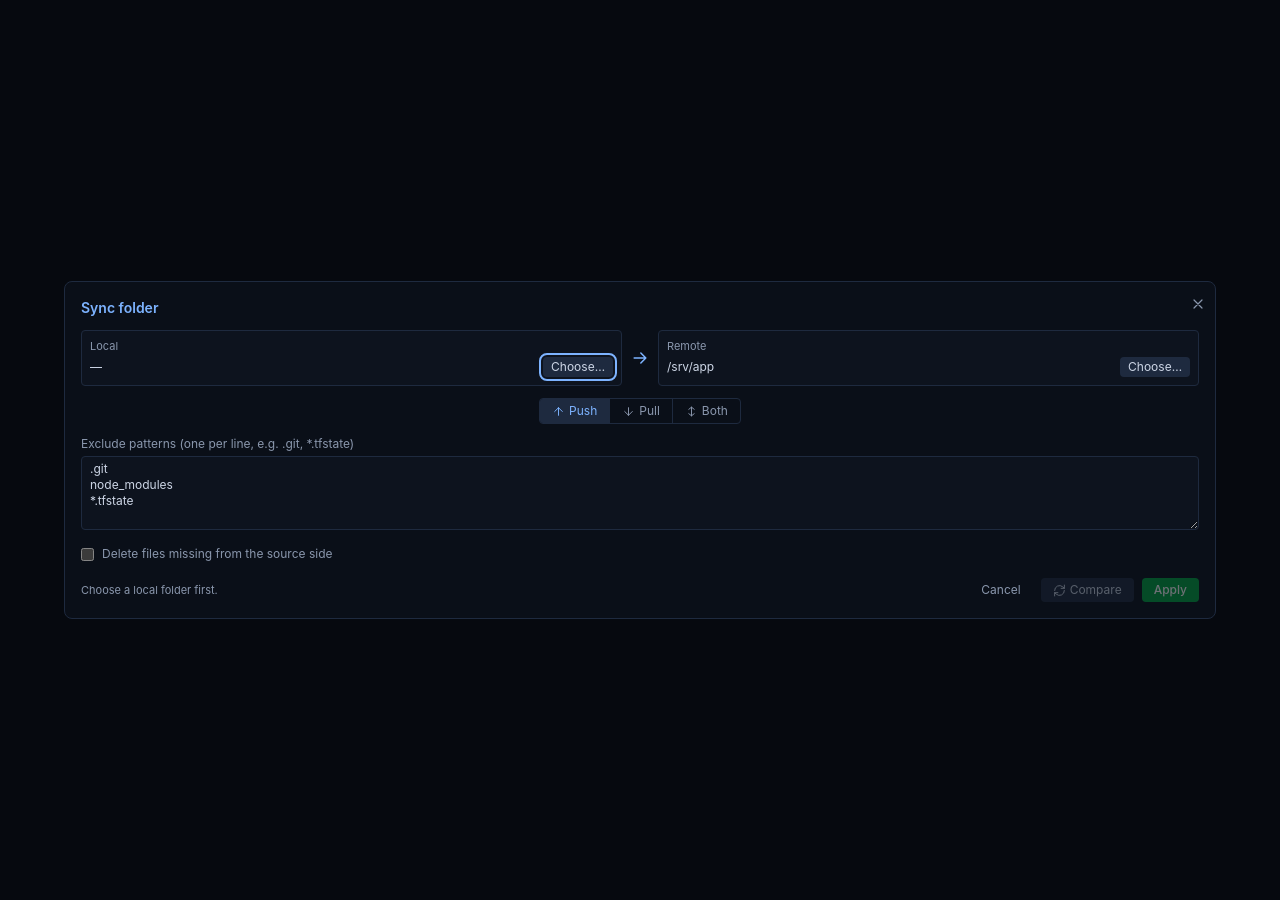
Test case: SyncModal › cancels the run it started, by its own run id
Click the button with aria-label "Choose local folder" at (578, 367), box [543, 357, 613, 377]
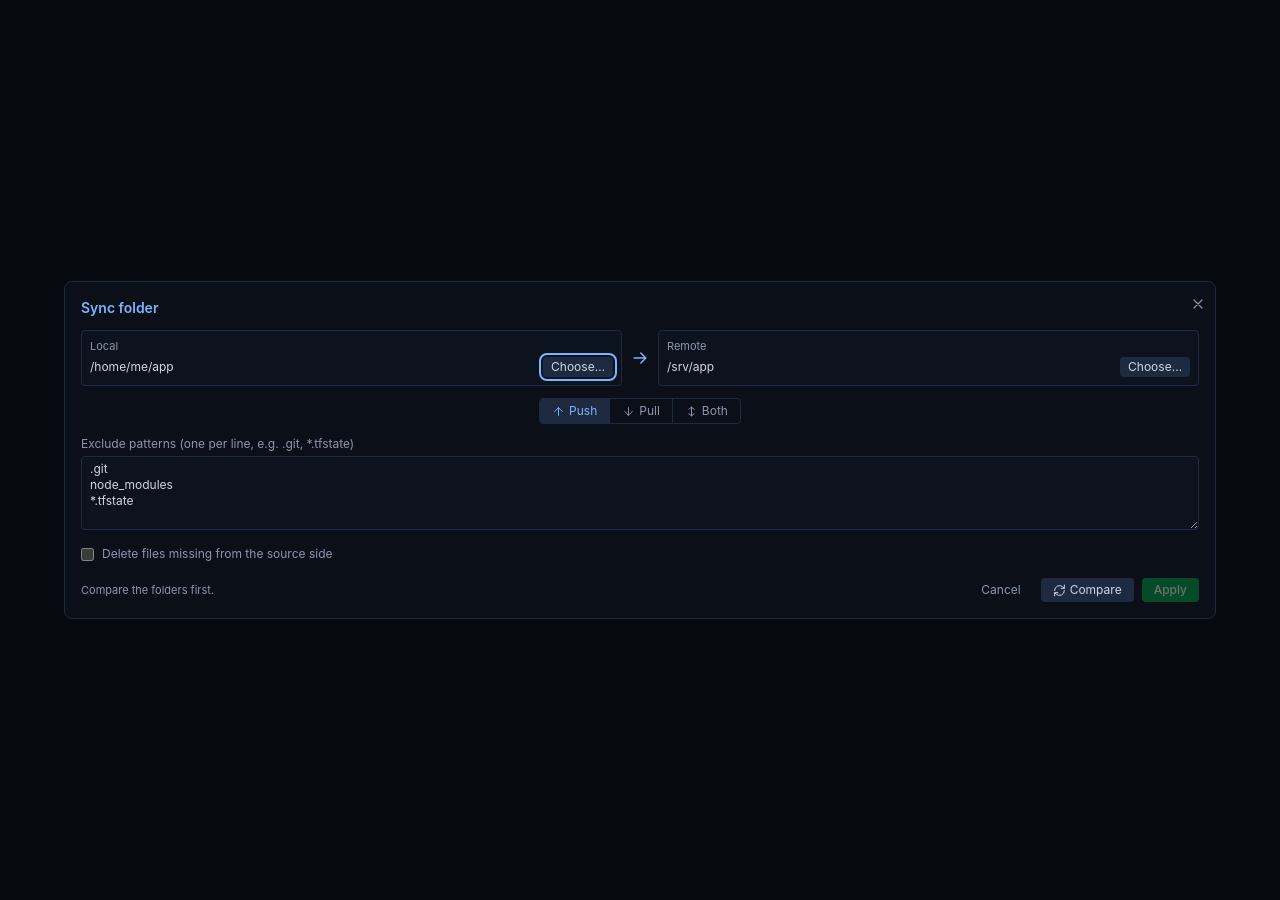
Click the button "Compare" at (1087, 590), box [1041, 578, 1134, 602]
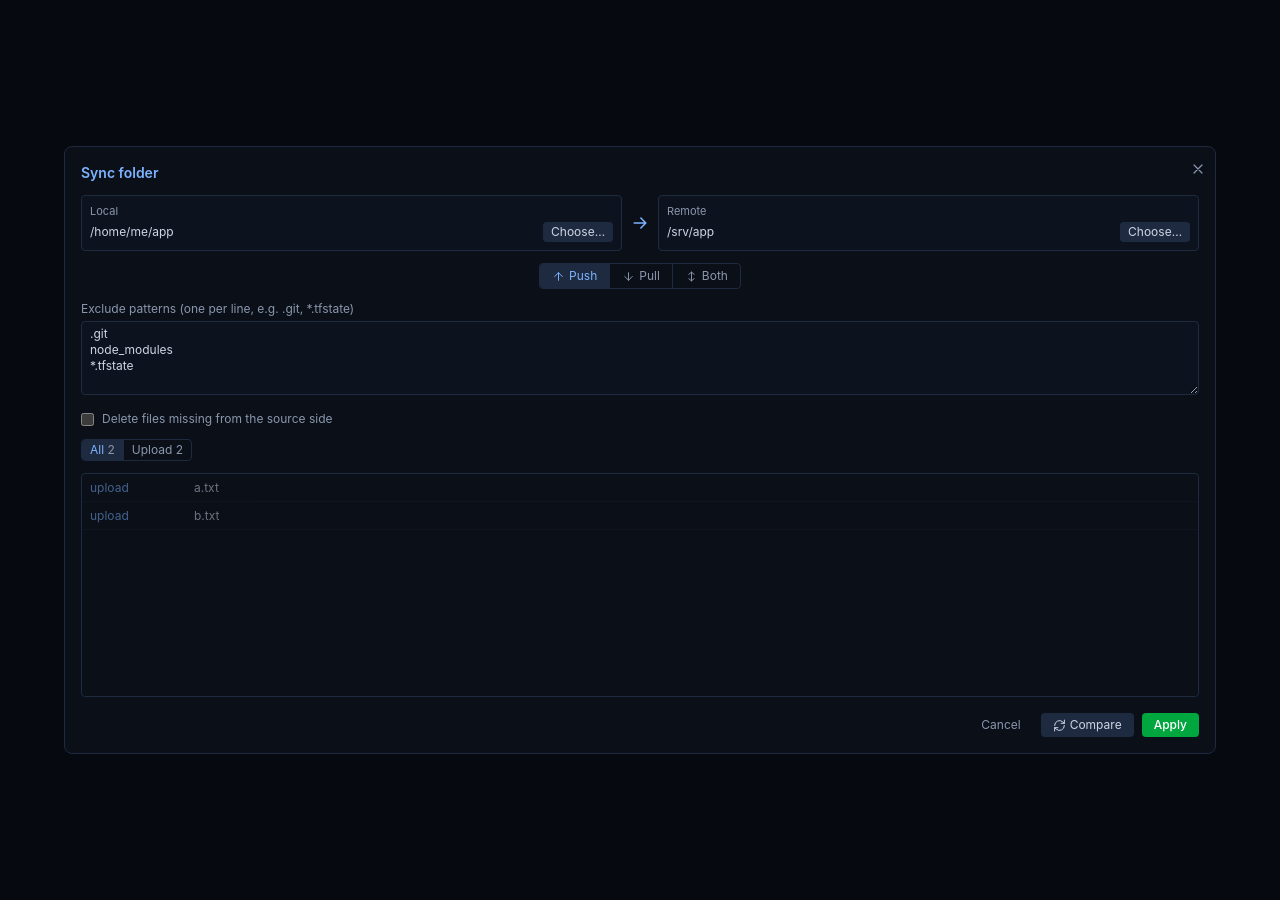
expect the text titled "a.txt" is shown: met, box [194, 480, 219, 495]
Click the button "Apply" at (1170, 725), box [1142, 713, 1199, 737]
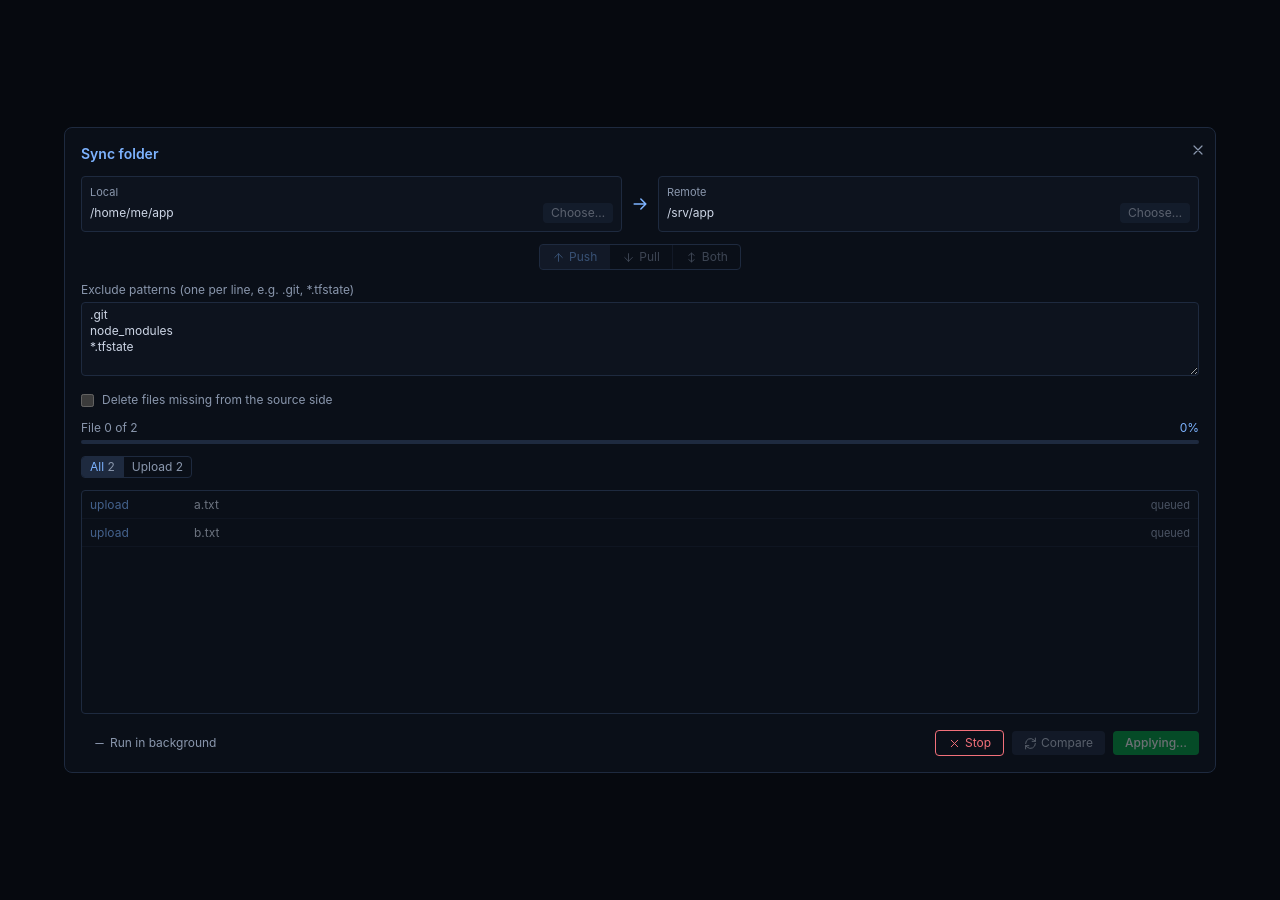
Click the button "Stop" at (970, 743), box [935, 730, 1004, 756]
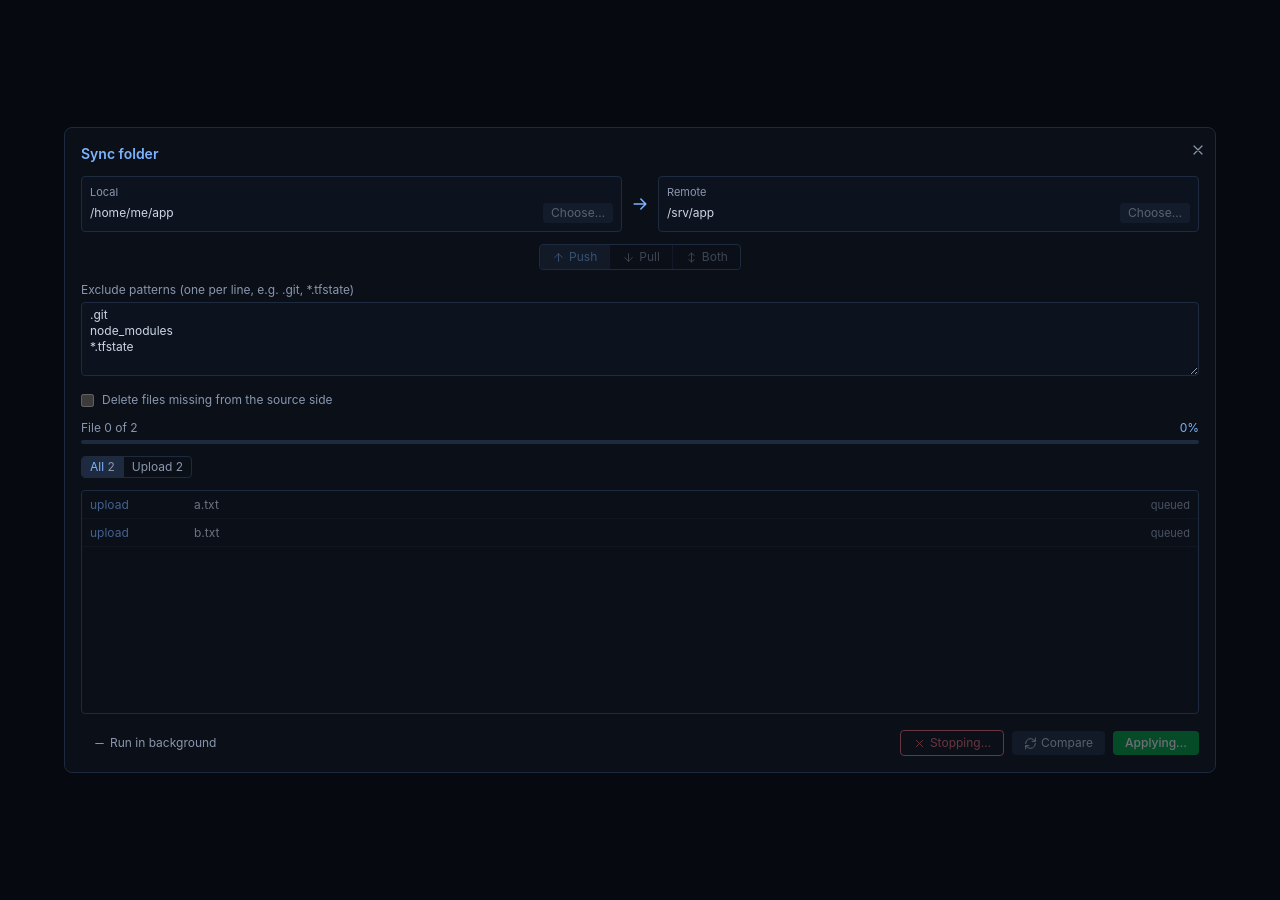
expect the button "Stopping…" is shown: met, box [900, 730, 1004, 756]
